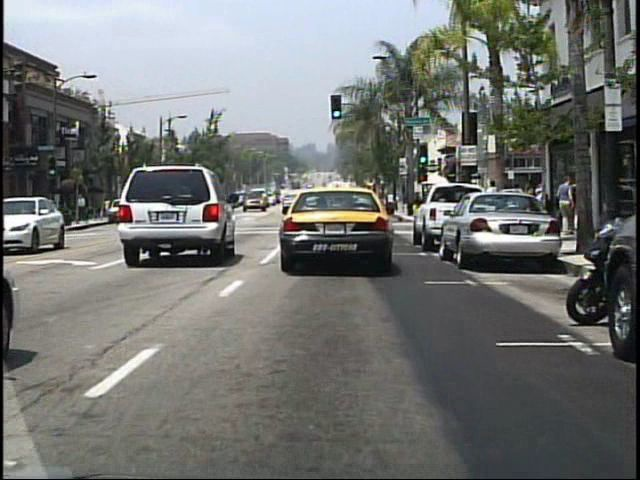person: (520, 177, 541, 235), (556, 175, 576, 235)
